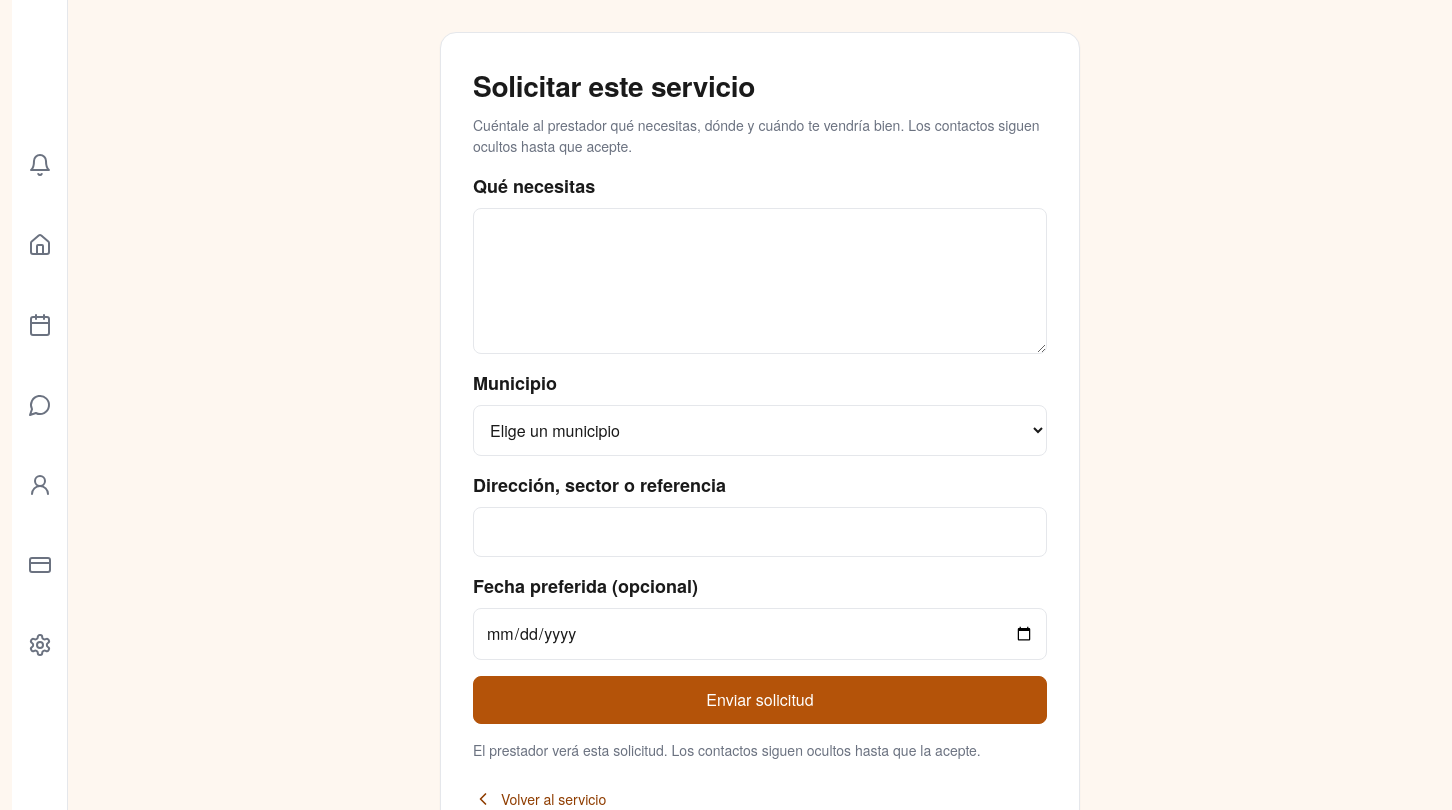
Test: Nueva solicitud › envía una solicitud válida y abre el detalle
Step 1. Type "Se fugará el lavamanos del baño principal." into the text box labelled "Qué necesitas" → (760,281), box [473,208,1047,354]
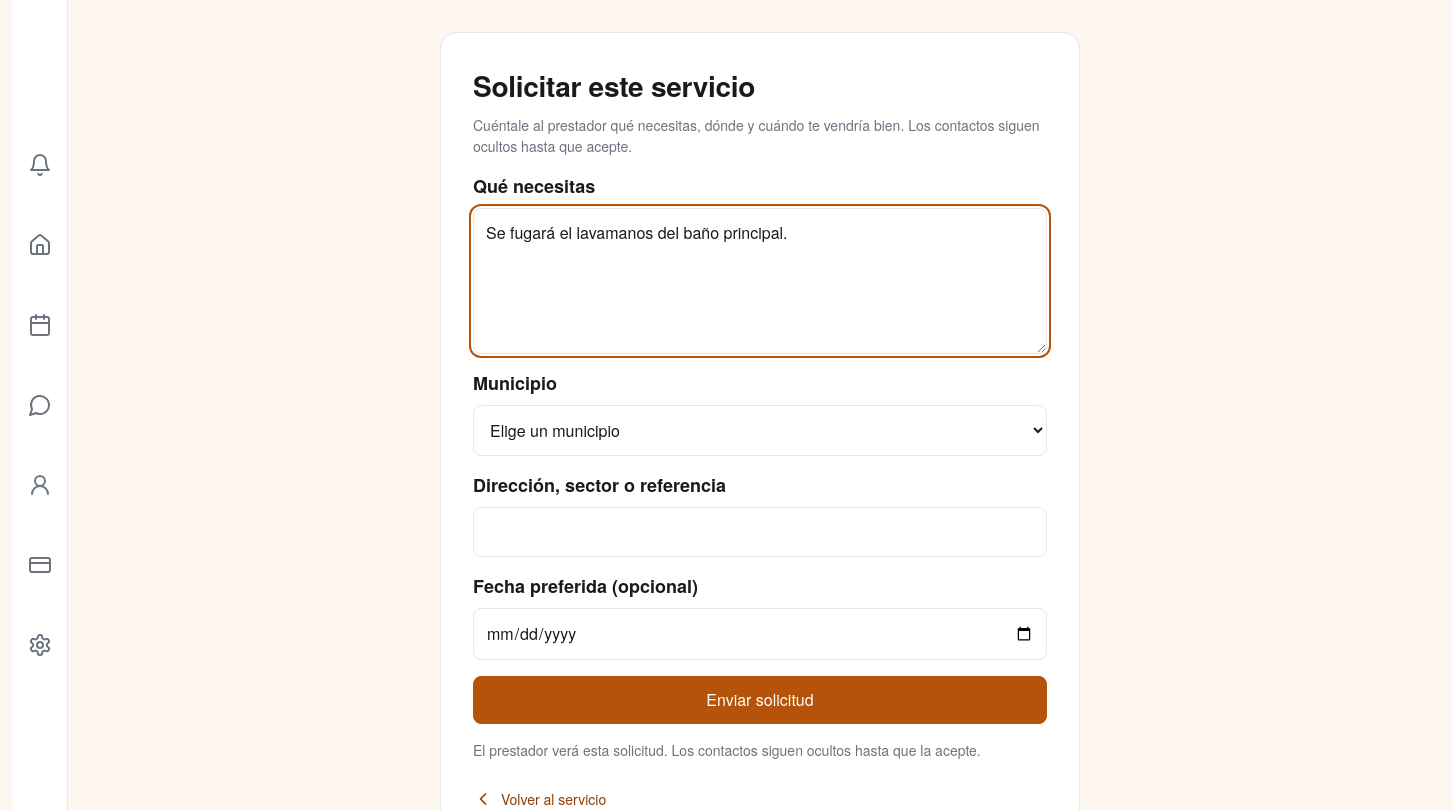
Step 2. Select "Managua: Managua" in the dropdown labelled "Municipio" → (760,430), box [473,405,1047,456]
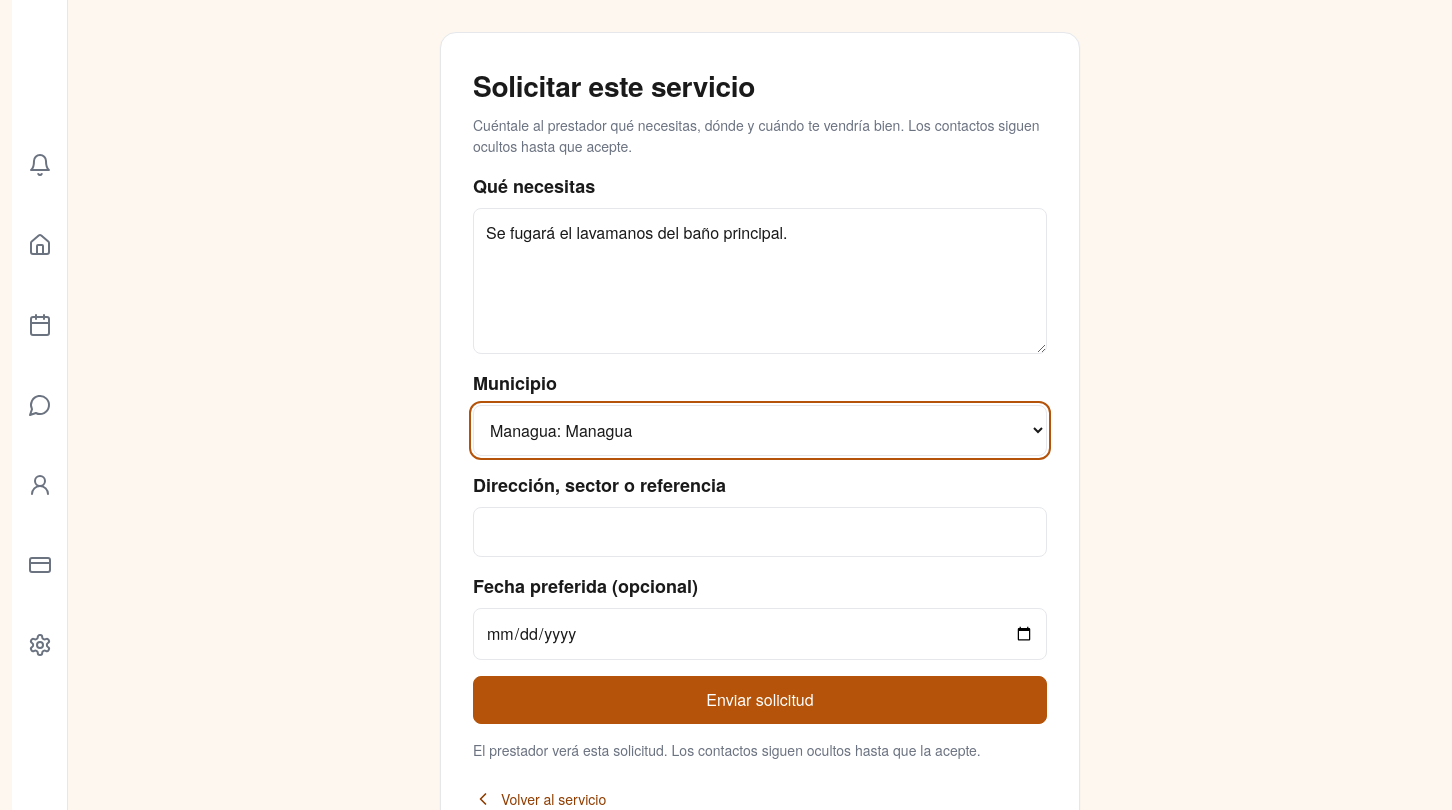
Step 3. Type "De la UCA dos cuadras al lago, portón verde." into the field labelled "Dirección, sector o referencia" → (760,532), box [473,507,1047,557]
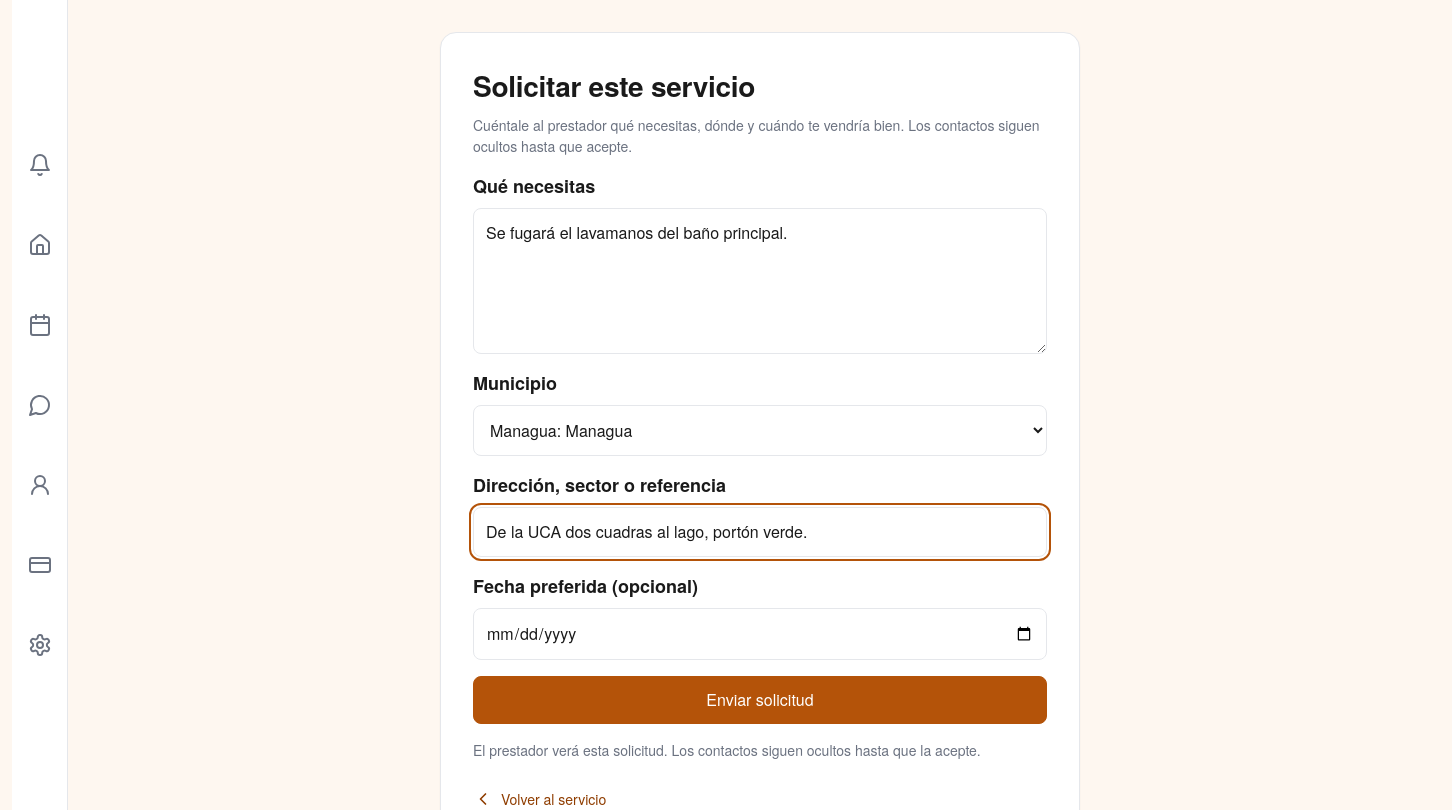
Step 4. Type "2026-09-15" into the date field labelled "Fecha preferida (opcional)" → (760,634), box [473,608,1047,660]
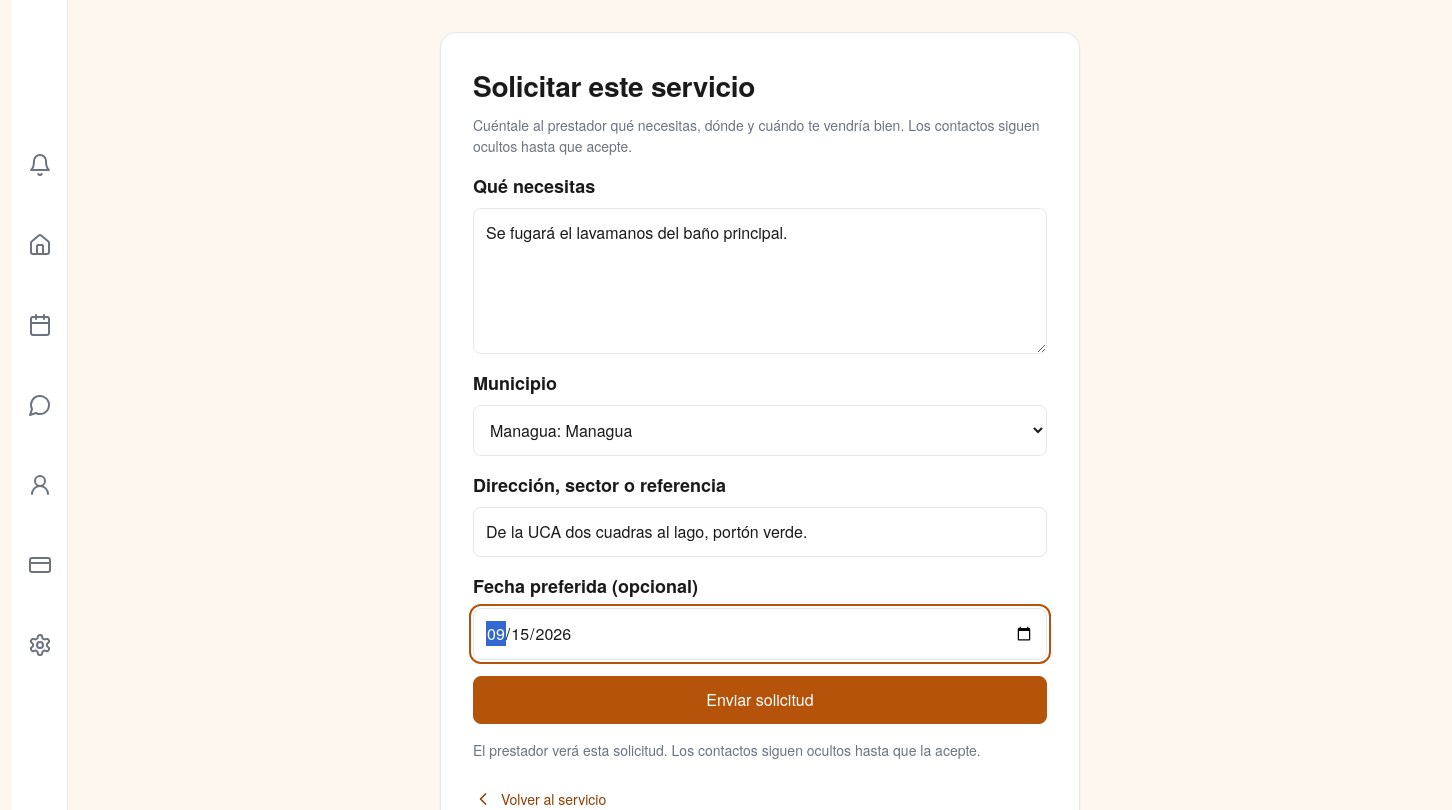
Step 5. Click the button "Enviar solicitud" → (760,700), box [473,676,1047,724]
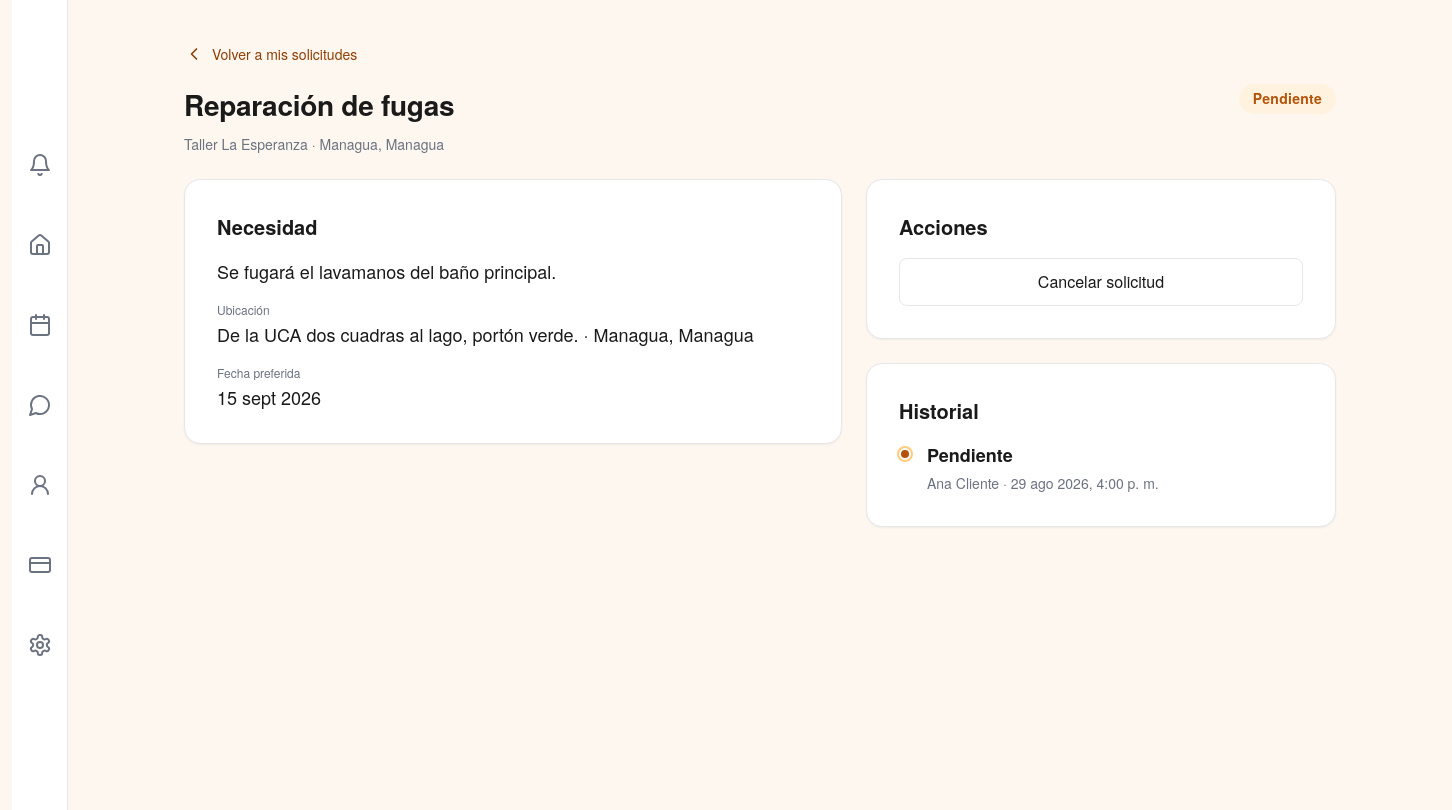
Expected: the heading "Reparación de fugas" is shown, [184,84,454,126]
